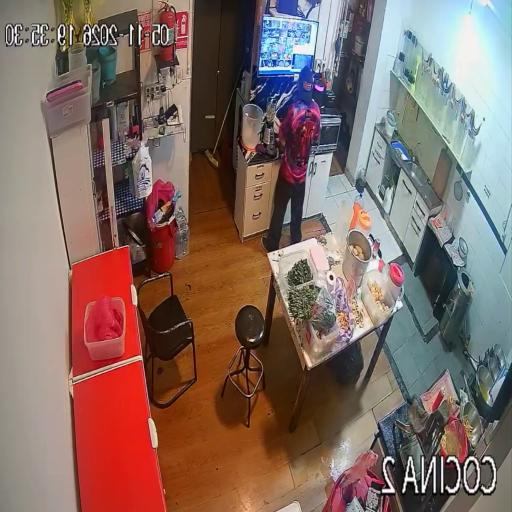Envase Ketchup: (433, 387, 446, 410)
Envase Llajua: (447, 395, 454, 404)
Jarra1: (388, 263, 404, 296)
Jarra2: (355, 210, 371, 236)
Jarra3: (334, 198, 354, 246)
Microondas: (311, 115, 341, 154)
Persona1: (261, 66, 320, 252)
Tapa de olla: (459, 237, 468, 255)
Taper: (466, 280, 475, 300)
Taper2: (278, 247, 318, 295)
Taper3: (294, 280, 339, 358)
Taper4: (362, 270, 396, 325)
olla1: (343, 229, 371, 289)
